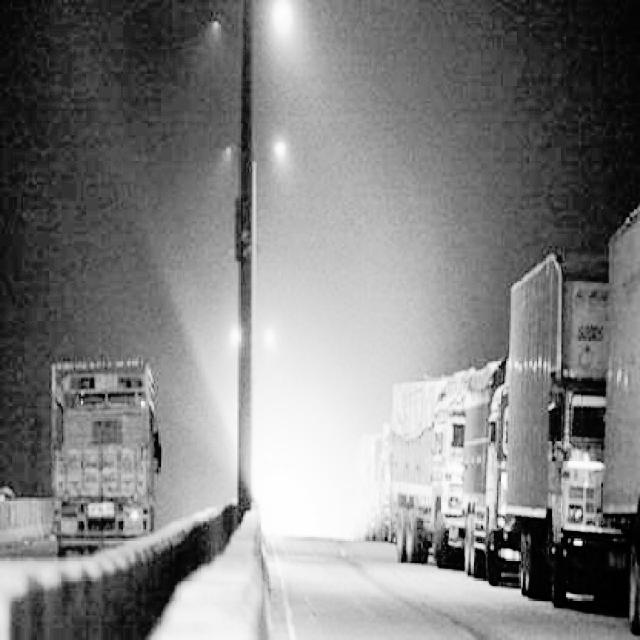HCV: (480, 220, 618, 576), (363, 330, 468, 556), (17, 372, 156, 532)
